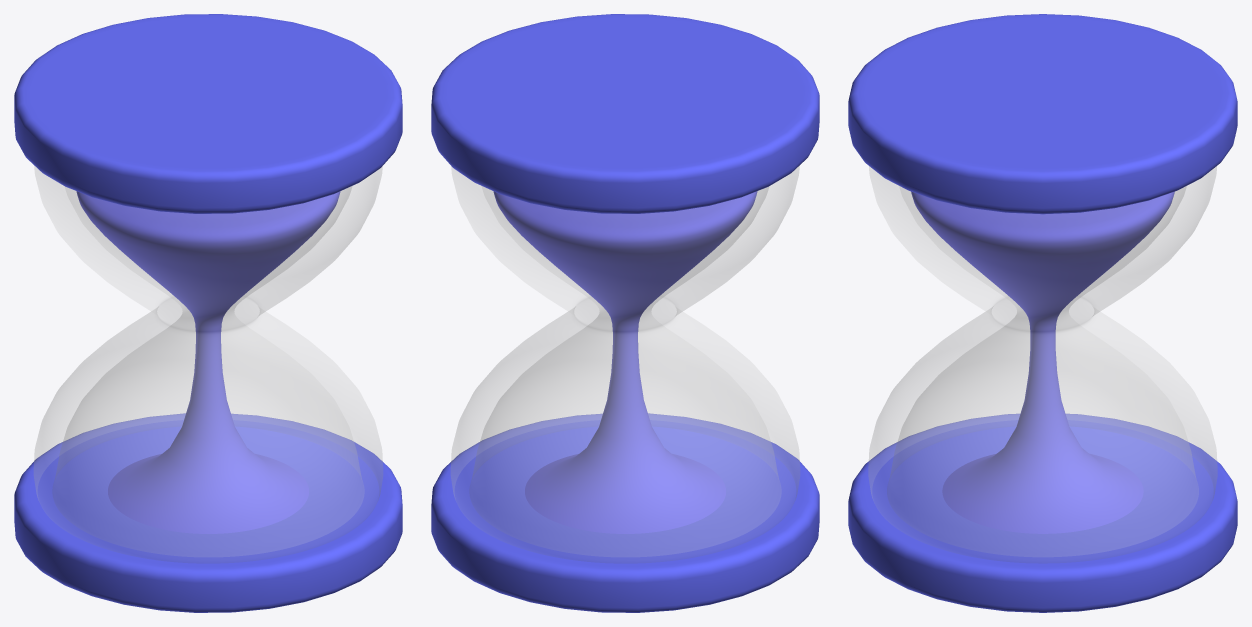
Rendered from timer-loading-animated-3d-icon-257205088058.glb.
3 views of the same model, side by side, from view 1: azimuth 30°, elevation 25°; view 2: azimuth 150°, elevation 25°; view 3: azimuth 270°, elevation 25° (orthographic).
Parts seen in each view (by area): view 1: Cylinder.001, Cylinder, Cylinder.002; view 2: Cylinder.001, Cylinder, Cylinder.002; view 3: Cylinder.001, Cylinder, Cylinder.002.
Boxes of the visible parts, x1=… form: Cylinder.001: x1=14, y1=14, x2=402, y2=612; Cylinder: x1=34, y1=166, x2=382, y2=562; Cylinder.002: x1=76, y1=191, x2=340, y2=533; Cylinder.001: x1=431, y1=14, x2=819, y2=612; Cylinder: x1=451, y1=166, x2=799, y2=562; Cylinder.002: x1=493, y1=191, x2=757, y2=533; Cylinder.001: x1=848, y1=14, x2=1237, y2=612; Cylinder: x1=868, y1=166, x2=1217, y2=562; Cylinder.002: x1=911, y1=191, x2=1174, y2=533.
Size of the model in its own units: 1.59 by 1.99 by 1.59.
